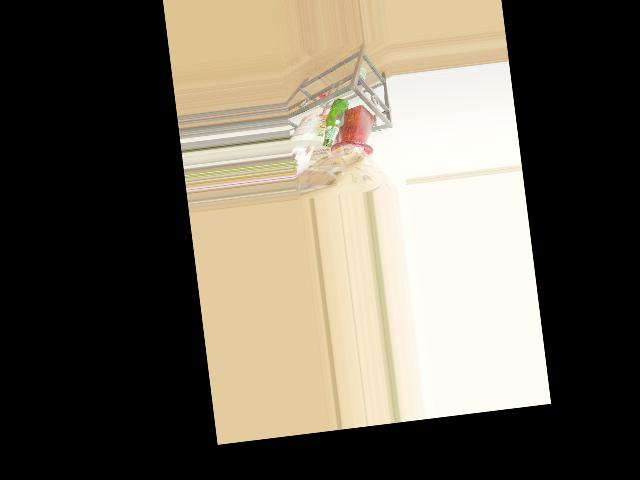beer: (317, 97, 353, 147)
